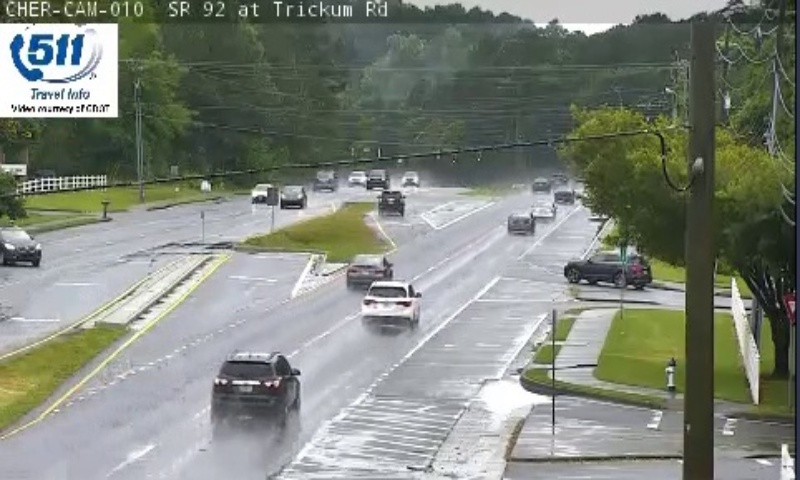car: (210, 351, 298, 409), (361, 279, 419, 323), (346, 252, 393, 283), (378, 189, 405, 212), (506, 211, 534, 232), (529, 198, 554, 220)
